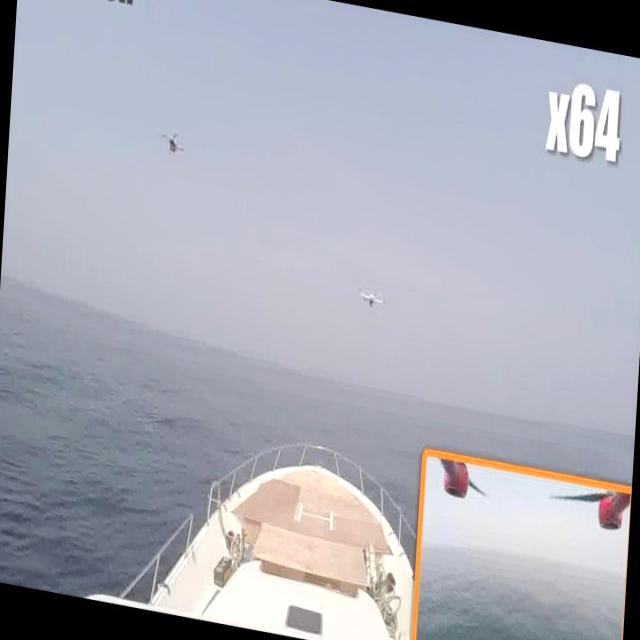drone: (348, 265, 397, 323), (152, 116, 194, 174)
